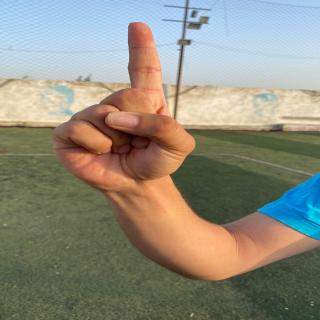BAA: (48, 19, 196, 189)
